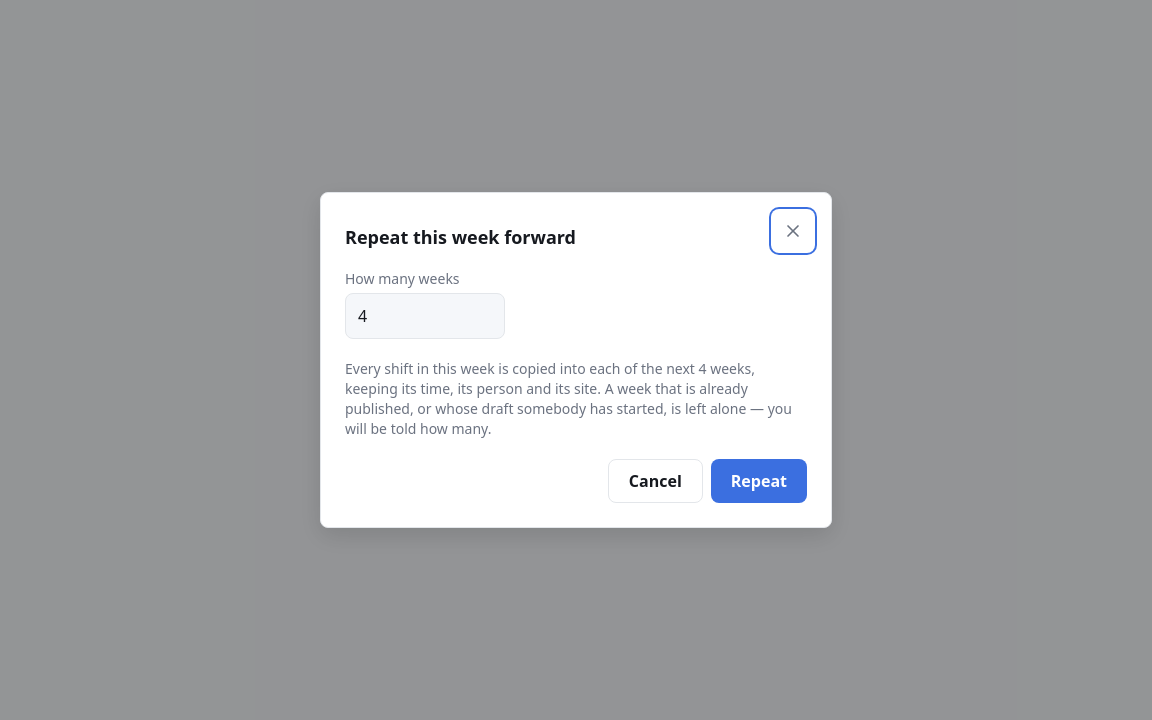
Scenario: RepeatWeekModal › refuses more than the database will accept, and says the limit
The image size is (1152, 720).
Replace the text in the field labelled "How many weeks" with "200" at (425, 316), box [345, 293, 505, 339]
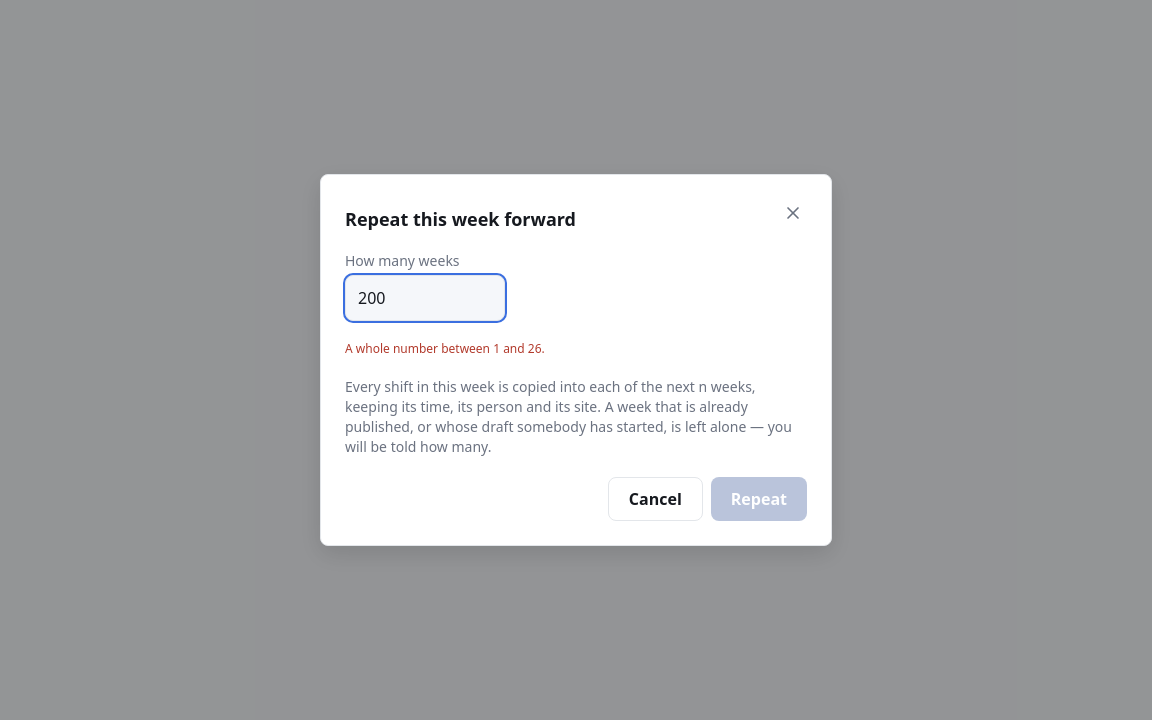
Check: the button "Repeat" is disabled, box [711, 477, 807, 521]
Check: the message shows "between 1 and 26", box [345, 340, 545, 357]
